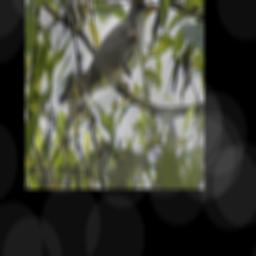Cuckoo: (50, 0, 160, 168)
